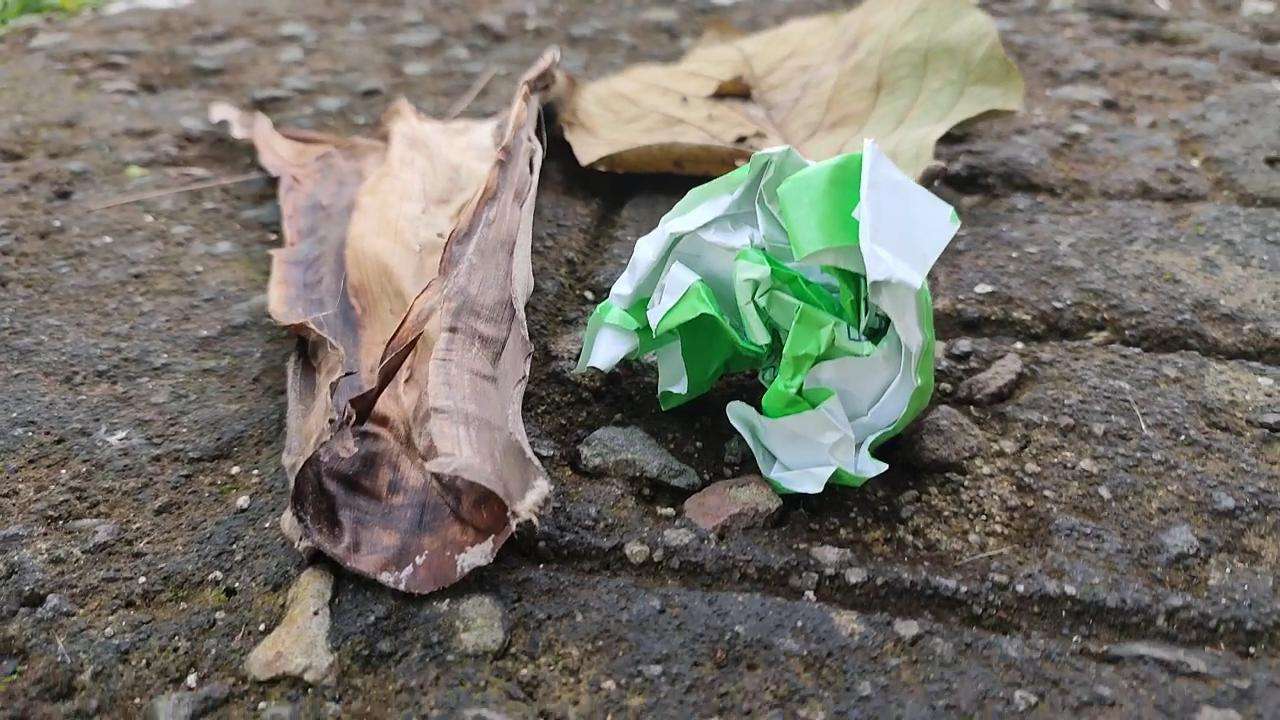Paper: (578, 128, 969, 493)
